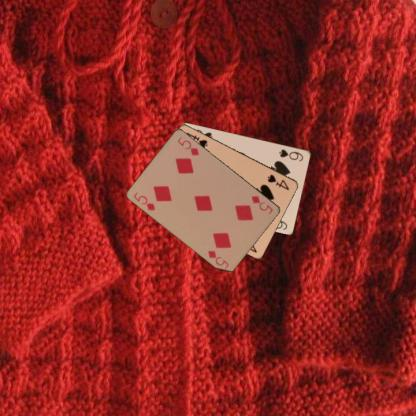4s: (264, 172, 290, 191)
5d: (131, 189, 157, 212), (249, 193, 274, 215)
6s: (277, 147, 304, 162)
